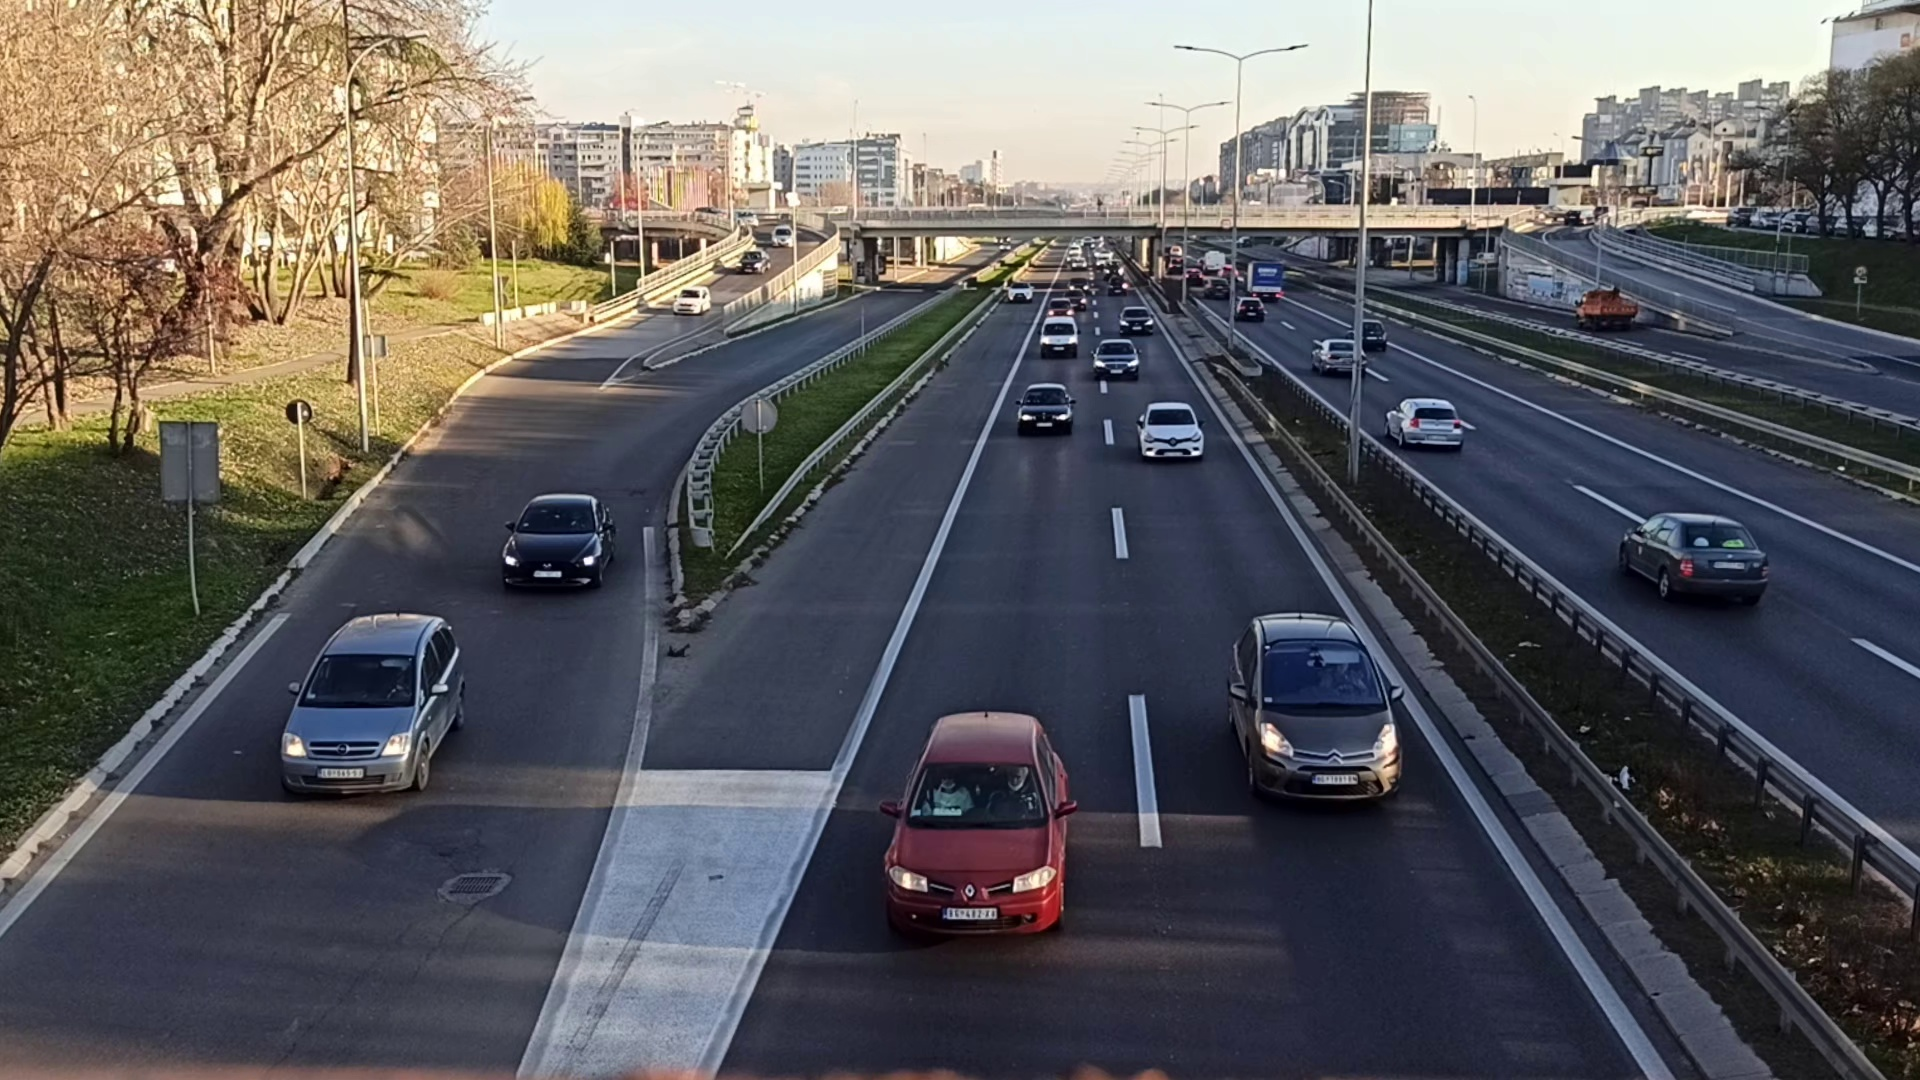car: (878, 707, 1073, 947), (1226, 608, 1404, 811), (281, 607, 465, 798), (1618, 509, 1771, 617), (501, 495, 616, 592), (1135, 401, 1205, 464), (1385, 396, 1462, 450), (1015, 384, 1073, 436), (1092, 339, 1139, 378), (1040, 316, 1077, 356)
